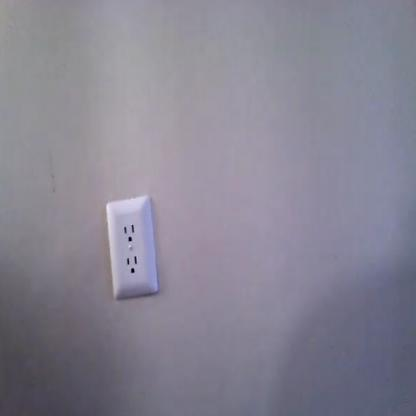OUTLET: (105, 196, 163, 301)
